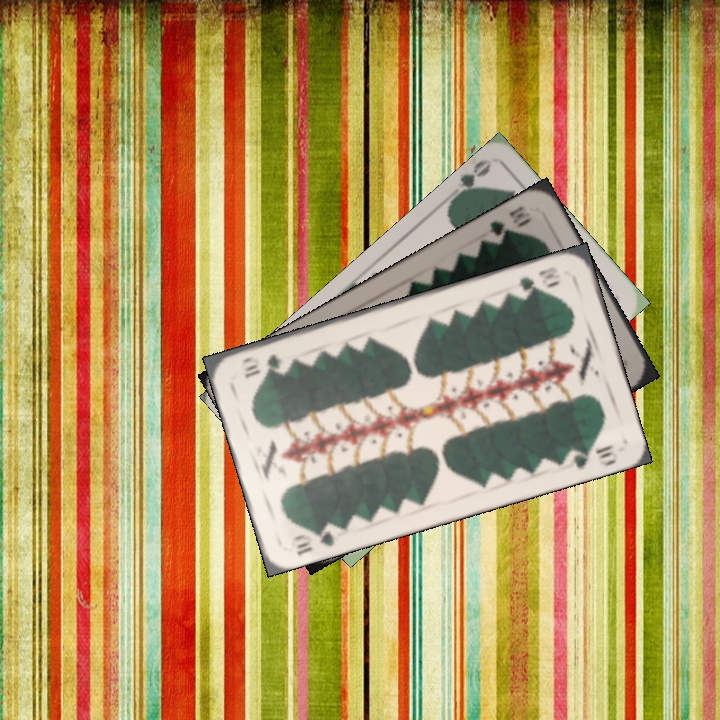G10: (484, 201, 533, 246), (290, 520, 341, 558), (513, 262, 563, 295)
GO: (447, 155, 494, 203)
